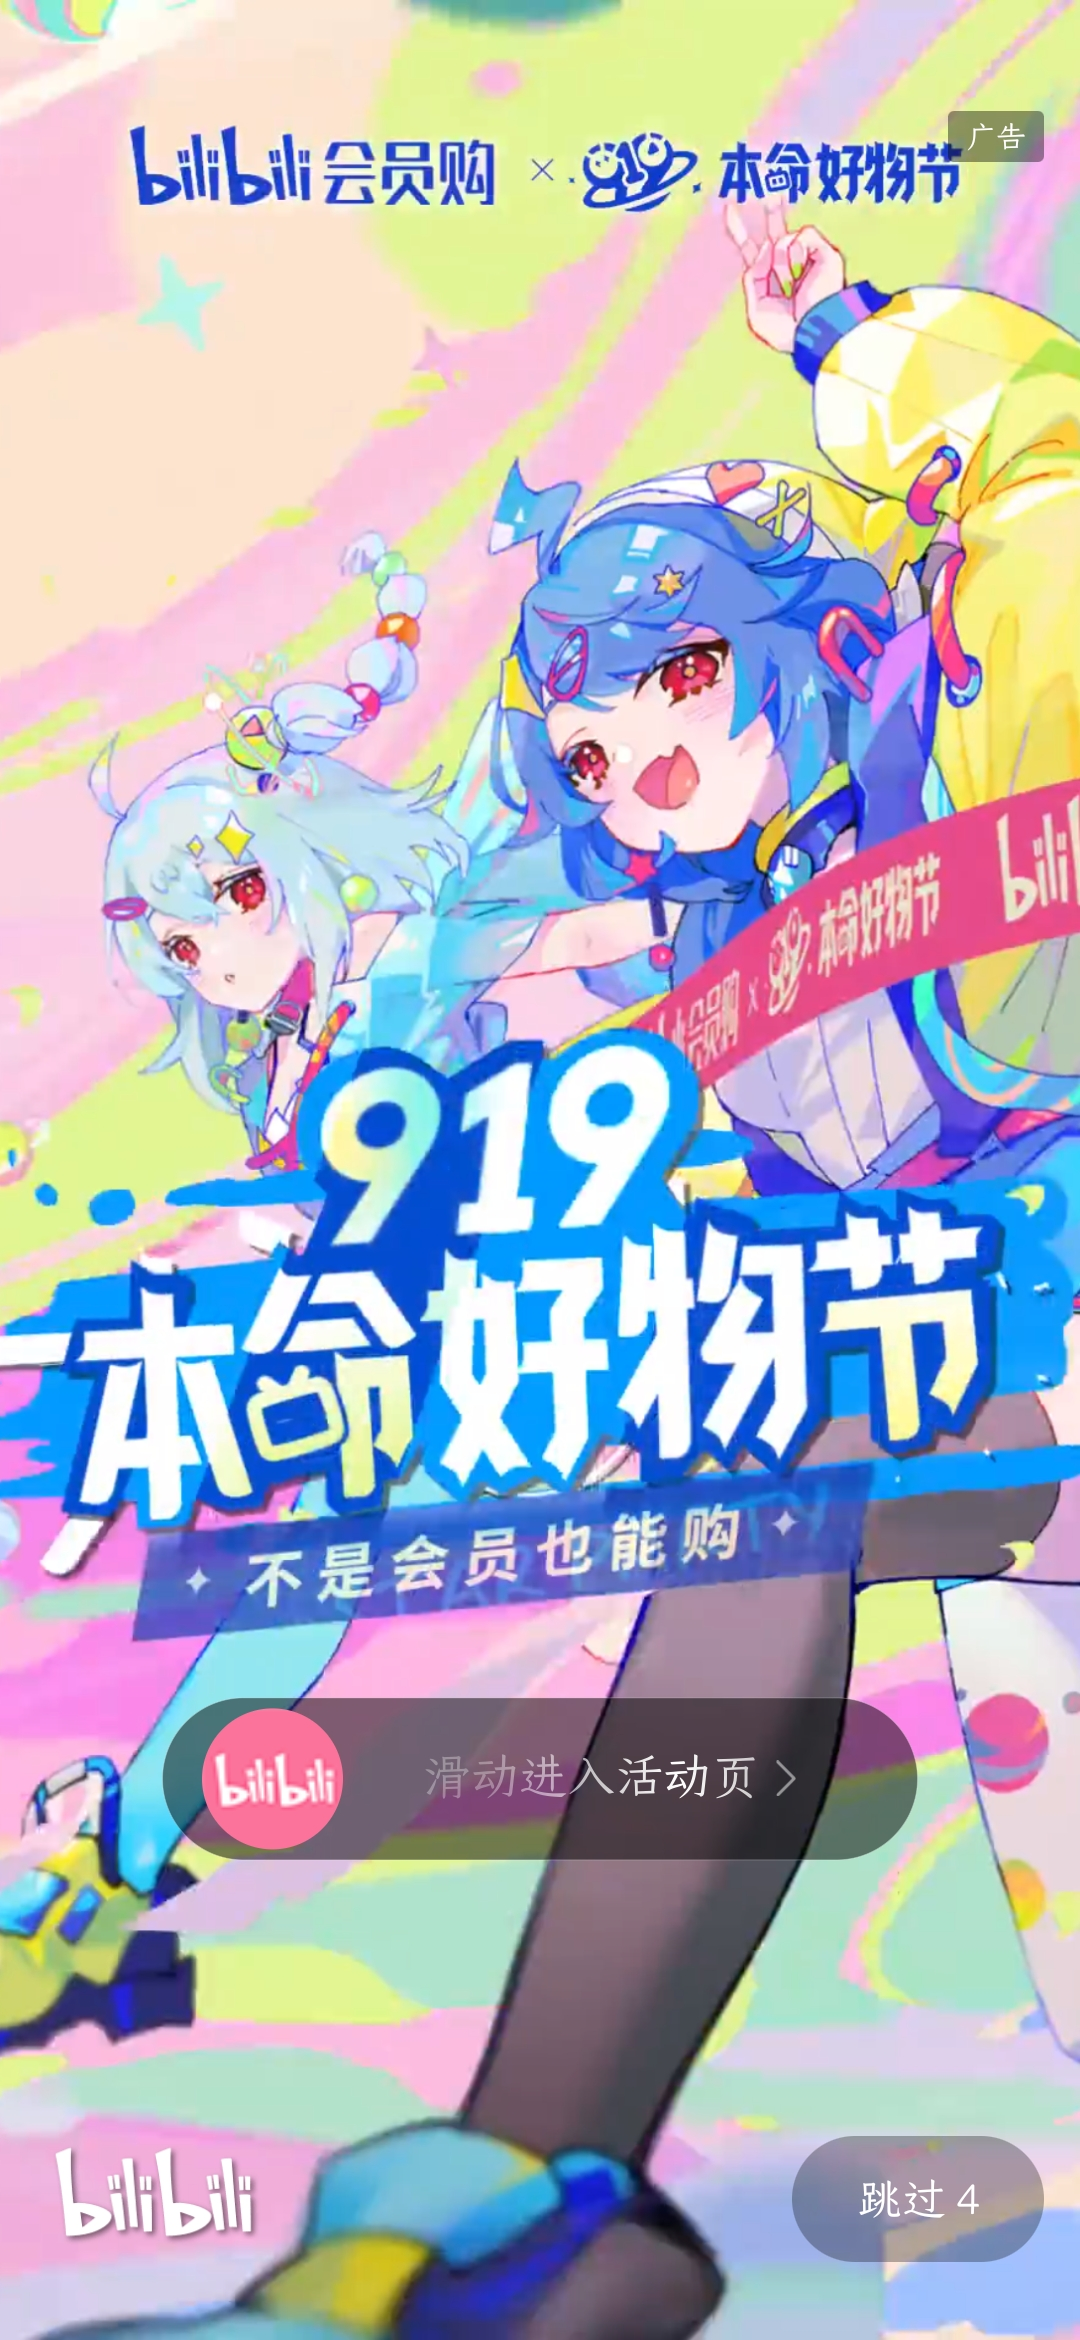skip: (816, 2140, 1026, 2256)
